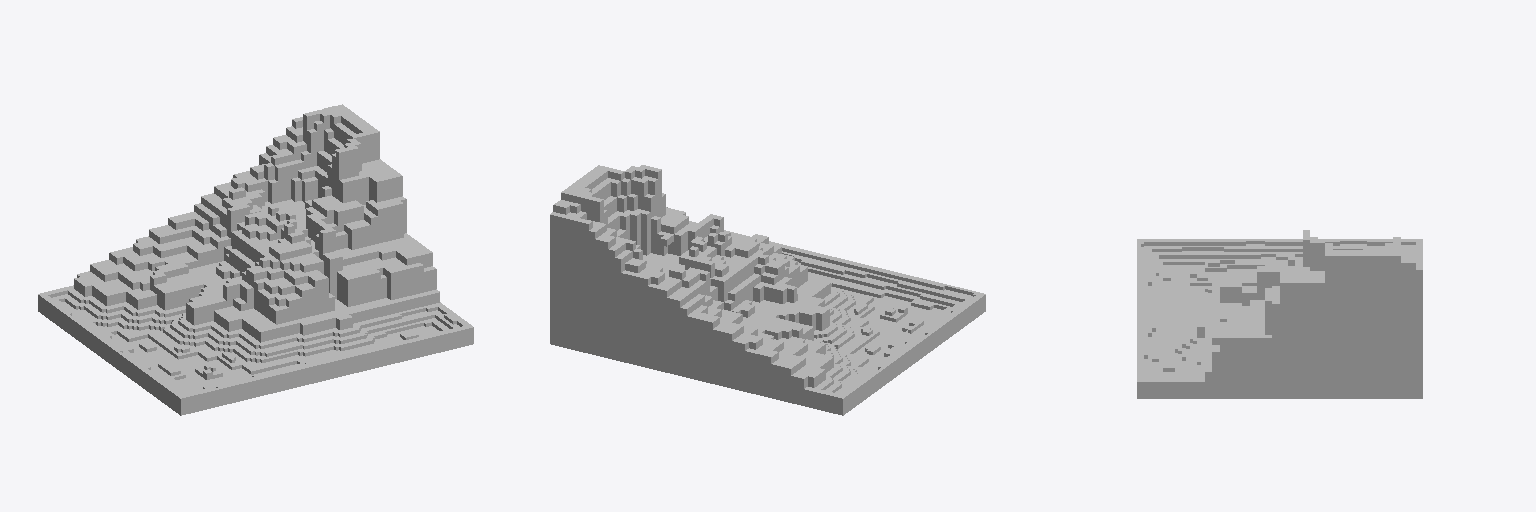
Rendered from volcan_with_sand.obj.
3 renders of one model, left to right at view 1: azimuth 30°, elevation 25°; view 2: azimuth 150°, elevation 25°; view 3: azimuth 270°, elevation 25°, orthographic.
Parts seen in each view (by area): view 1: myvolcanwithsand; view 2: myvolcanwithsand; view 3: myvolcanwithsand.
Boxes of the visible parts, <box> form: myvolcanwithsand: <box>38,104,473,415</box>; myvolcanwithsand: <box>550,165,985,415</box>; myvolcanwithsand: <box>1137,230,1422,398</box>.
Bounding box in the file's own units: 90 × 42 × 76.